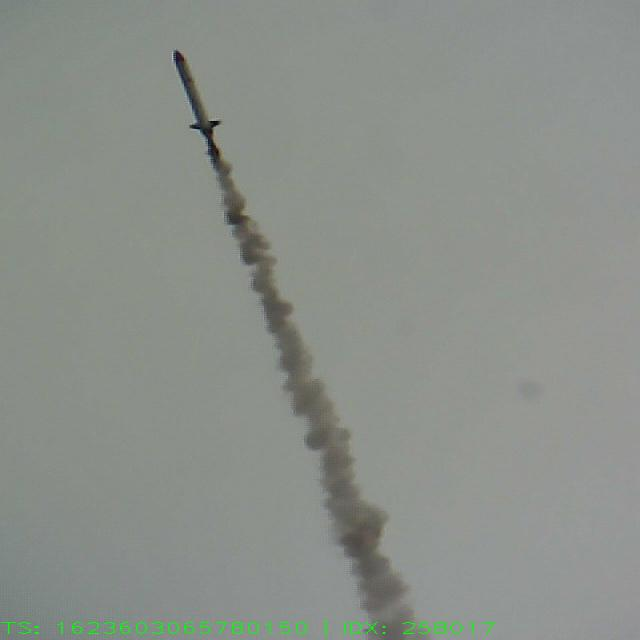Rocket: (171, 48, 224, 134)
